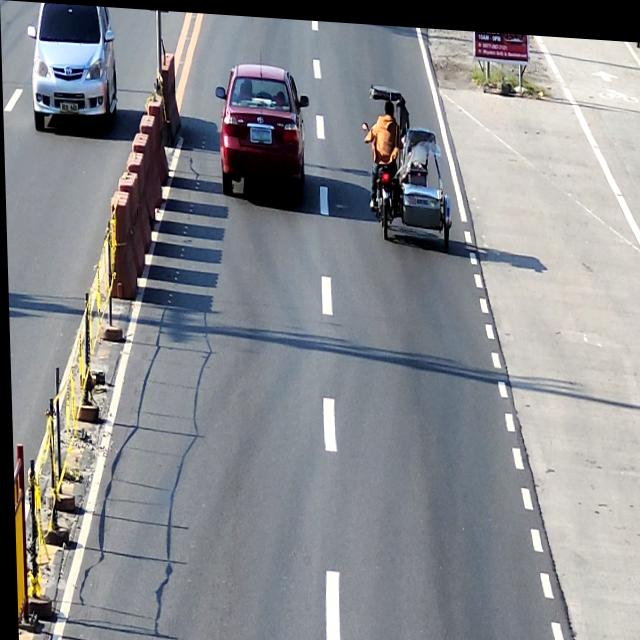Car: (214, 58, 311, 203), (27, 1, 117, 134)
License-Plate: (251, 124, 271, 140), (59, 101, 78, 114)
Tricycle: (361, 79, 451, 245)
